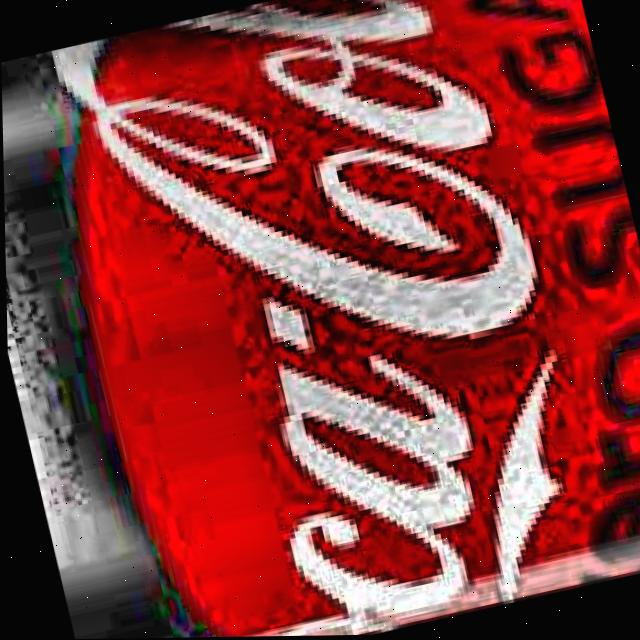metal: (1, 0, 640, 639)
